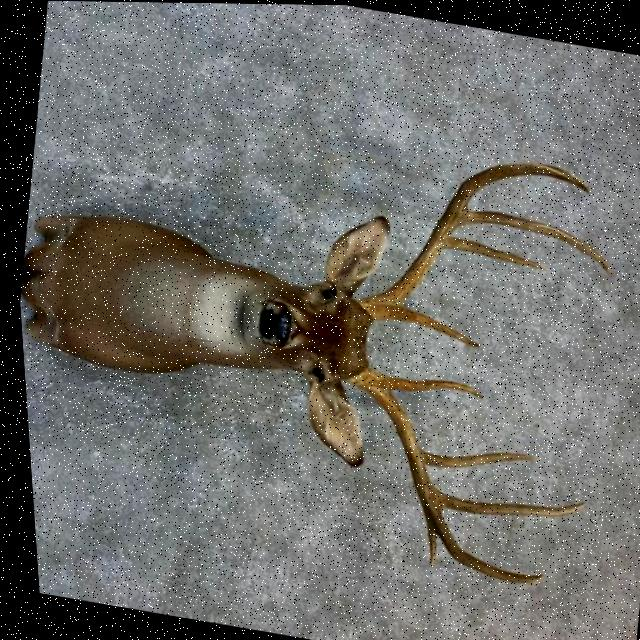E1: (418, 520, 429, 565)
L-F: (349, 162, 569, 320)
L-G1: (379, 304, 476, 346)
L-G2: (439, 235, 540, 270)
L-G3: (457, 208, 607, 273)
R-F: (339, 366, 535, 583)
R-G1: (375, 374, 479, 399)
R-G2: (414, 449, 532, 467)
R-G3: (432, 491, 579, 514)
